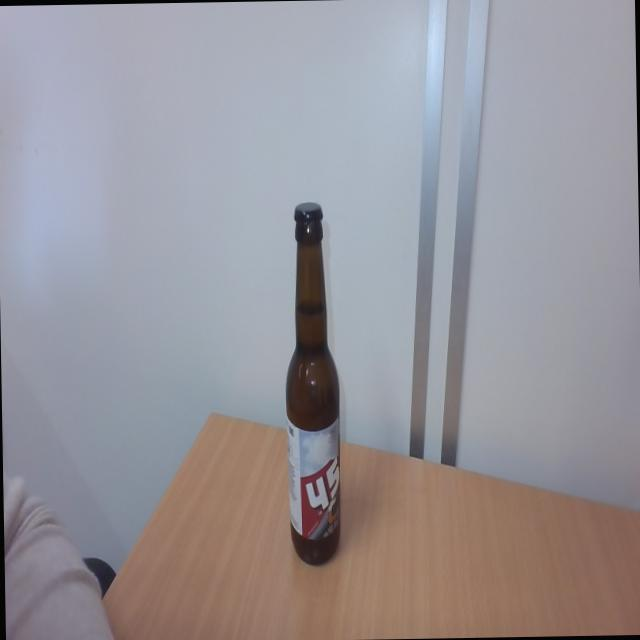Bottle: (282, 221, 342, 566)
Cap: (293, 198, 323, 228)
Label: (286, 418, 342, 539)
